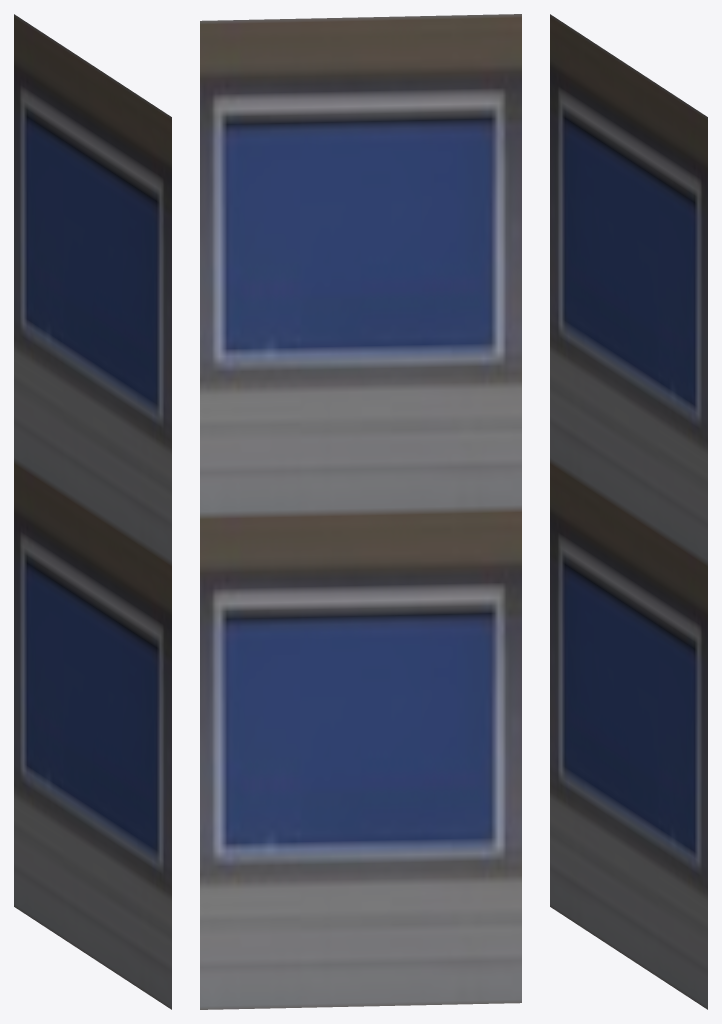
File: ResTex__1486.fbx
The picture shows the model from 3 angles, left to right: view 1: azimuth 90°, elevation 25°; view 2: azimuth 150°, elevation 25°; view 3: azimuth 270°, elevation 25°; orthographic projection. The views are drawn at different scales.
Visible parts, largest first — view 1: CityEngineMaterial_23_m; view 2: CityEngineMaterial_23_m; view 3: CityEngineMaterial_23_m.
Boxes of the visible parts, <box> form: CityEngineMaterial_23_m: <box>14,14,171,1009</box>; CityEngineMaterial_23_m: <box>200,14,521,1009</box>; CityEngineMaterial_23_m: <box>550,14,707,1009</box>.
Bounding box in the file's own units: 1.49 × 6 × 0.9622.
Materials: 1 (1 with a texture image).
